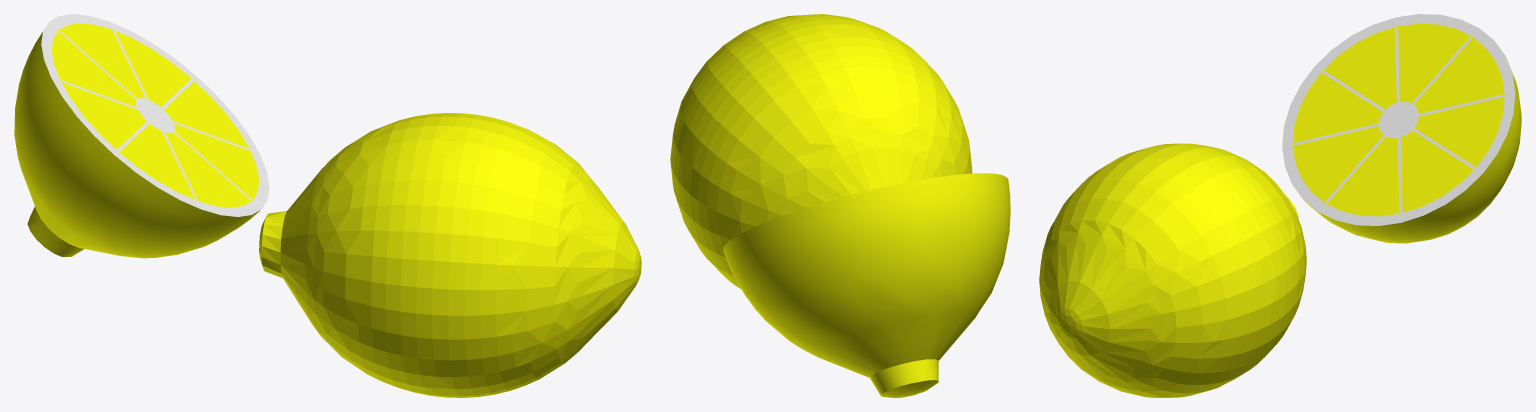
3 views of the same model, side by side, from view 1: azimuth 30°, elevation 25°; view 2: azimuth 150°, elevation 25°; view 3: azimuth 270°, elevation 25° (orthographic). The views are drawn at different scales.
Visible parts, largest first — view 1: Sphere002, Object002; view 2: Sphere002, Object002; view 3: Sphere002, Object002.
Boxes of the visible parts, x1,y1,x2,y2 form: Sphere002: [259, 113, 641, 397]; Object002: [14, 14, 269, 258]; Sphere002: [670, 14, 972, 289]; Object002: [723, 173, 1010, 397]; Sphere002: [1039, 143, 1306, 397]; Object002: [1282, 14, 1521, 243].
Bounding box in the file's own units: 436164 × 284586 × 481781.
